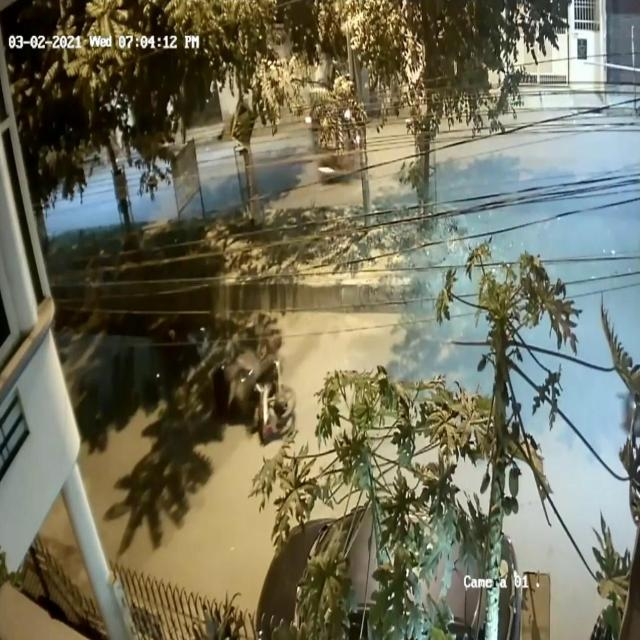accident: (147, 315, 301, 448)
